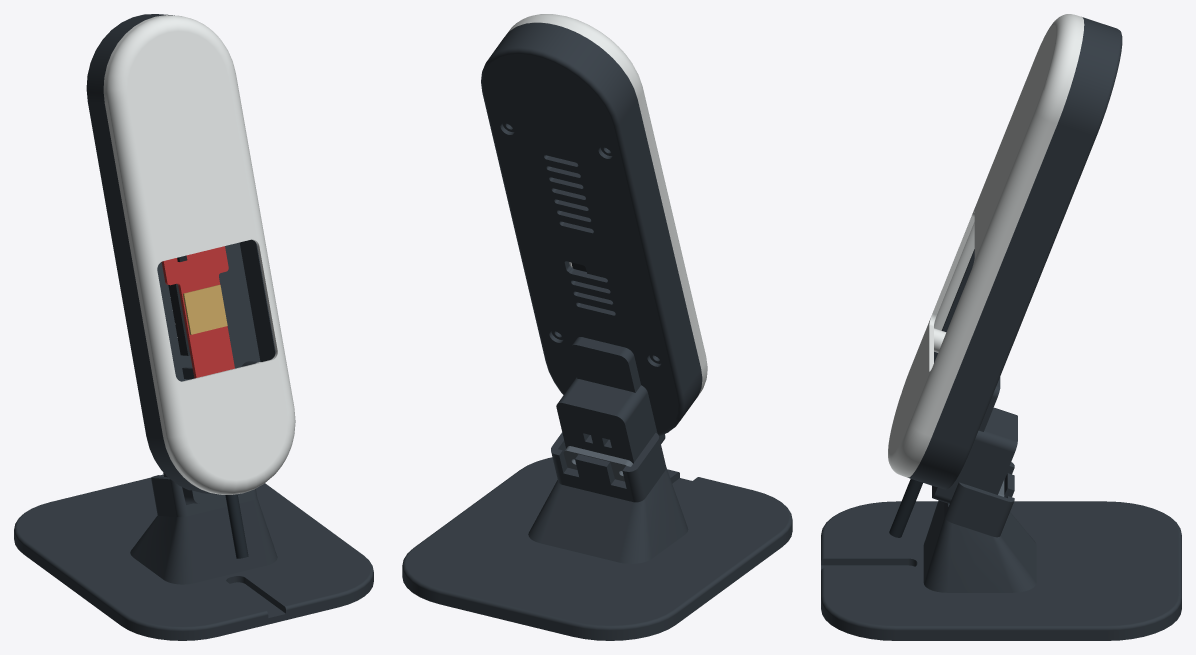
The model's file is assembly_open_on_dock.glb.
The picture shows the model from 3 angles, left to right: view 1: azimuth 30°, elevation 25°; view 2: azimuth 150°, elevation 25°; view 3: azimuth 270°, elevation 25°; orthographic projection. The views are drawn at different scales.
Parts seen in each view (by area): view 1: open_aperture_enclosure_v1_2/front_open_aperture, single_board_desktop_dock_20deg, open_aperture_enclosure_v1_2/rear_shell_v1_2_standard_ties, open_aperture_enclosure_v1_2/reference_board_not_printable/p, open_aperture_enclosure_v1_2/reference_board_not_printable/r (×2), open_aperture_enclosure_v1_2/ref_straight_USB_boot_11x20x6_c; view 2: open_aperture_enclosure_v1_2/rear_shell_v1_2_standard_ties, single_board_desktop_dock_20deg, open_aperture_enclosure_v1_2/front_open_aperture, open_aperture_enclosure_v1_2/nut_retainer; view 3: single_board_desktop_dock_20deg, open_aperture_enclosure_v1_2/rear_shell_v1_2_standard_ties, open_aperture_enclosure_v1_2/front_open_aperture, open_aperture_enclosure_v1_2/ref_straight_USB_boot_11x20x6_c.
Boxes of the visible parts, x1,y1,x2,y2 form: open_aperture_enclosure_v1_2/front_open_aperture: [103, 15, 295, 494]; single_board_desktop_dock_20deg: [14, 474, 373, 640]; open_aperture_enclosure_v1_2/rear_shell_v1_2_standard_ties: [86, 14, 275, 503]; open_aperture_enclosure_v1_2/reference_board_not_printable/p: [161, 246, 234, 378]; open_aperture_enclosure_v1_2/reference_board_not_printable/r (×2): [168, 277, 230, 355]; open_aperture_enclosure_v1_2/ref_straight_USB_boot_11x20x6_c: [225, 494, 248, 558]; open_aperture_enclosure_v1_2/rear_shell_v1_2_standard_ties: [481, 22, 702, 463]; single_board_desktop_dock_20deg: [402, 432, 792, 640]; open_aperture_enclosure_v1_2/front_open_aperture: [506, 14, 707, 395]; open_aperture_enclosure_v1_2/nut_retainer: [563, 446, 632, 481]; single_board_desktop_dock_20deg: [821, 462, 1181, 640]; open_aperture_enclosure_v1_2/rear_shell_v1_2_standard_ties: [908, 17, 1122, 503]; open_aperture_enclosure_v1_2/front_open_aperture: [888, 14, 1084, 477]; open_aperture_enclosure_v1_2/ref_straight_USB_boot_11x20x6_c: [889, 479, 922, 537].
Bounding box in the file's own units: 0.1 × 0.204 × 0.12.
